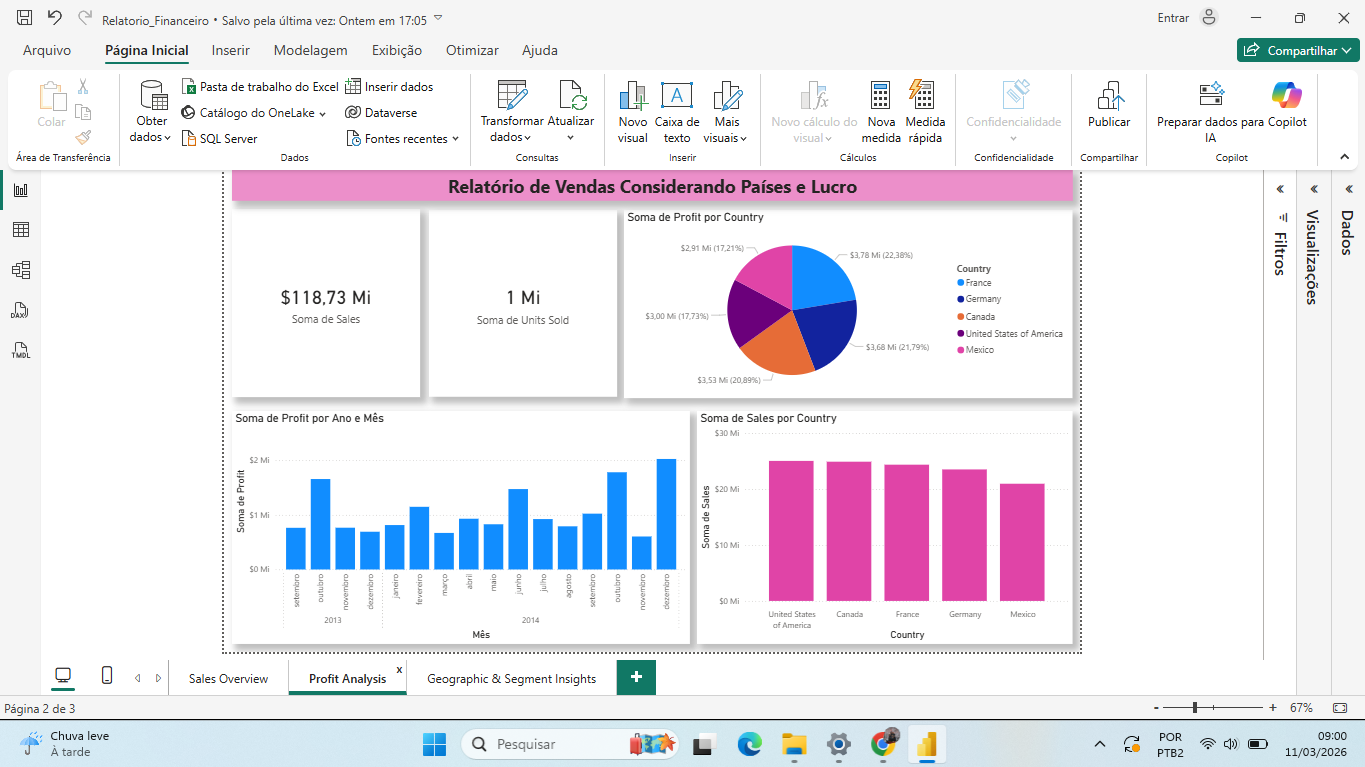

What the dashboard file says about the page in this screenshot:
{"tool":"powerbi","page":{"name":"Profit Analysis","canvas":[1280,720],"ordinal":1},"visuals":[{"type":"card","fields":{"Values":["Sum(financials.Sales)"]},"box":[11.8,58.8,280.5,280.5],"z":0},{"type":"card","fields":{"Values":["Sum(financials.Units Sold)"]},"box":[305.7,60.5,280.5,278.8],"z":1000},{"type":"pieChart","fields":{"Category":["financials.Country"],"Y":["Sum(financials.Profit)"]},"box":[598,60.5,670.2,280.5],"z":2000},{"type":"columnChart","fields":{"Category":["dCalendario.Date.Variation.Hierarquia de datas.Ano","dCalendario.Date.Variation.Hierarquia de datas.Mês"],"Y":["Sum(financials.Profit)"]},"box":[11.8,359.5,683.7,347.7],"z":3000},{"type":"columnChart","fields":{"Category":["financials.Country"],"Y":["Sum(financials.Sales)"]},"box":[707.2,359.5,561,347.7],"z":4000},{"type":"textbox","box":[11.8,0,1256.5,46],"z":5000}]}

Visuals, with their boxes on the page's 1280x720 design canvas (x1, y1, x2, y2). These are canvas units, not pixel positions in the 1365x767 screenshot, which may show the page scaled, cropped or inside an application window:
card - Sum(financials.Sales): Rect(12, 59, 292, 339)
card - Sum(financials.Units Sold): Rect(306, 60, 586, 339)
pieChart - financials.Country x Sum(financials.Profit): Rect(598, 60, 1268, 341)
columnChart - dCalendario.Date.Variation.Hierarquia de datas.Ano x dCalendario.Date.Variation.Hierarquia de datas.Mês: Rect(12, 360, 696, 707)
columnChart - financials.Country x Sum(financials.Sales): Rect(707, 360, 1268, 707)
textbox: Rect(12, 0, 1268, 46)
